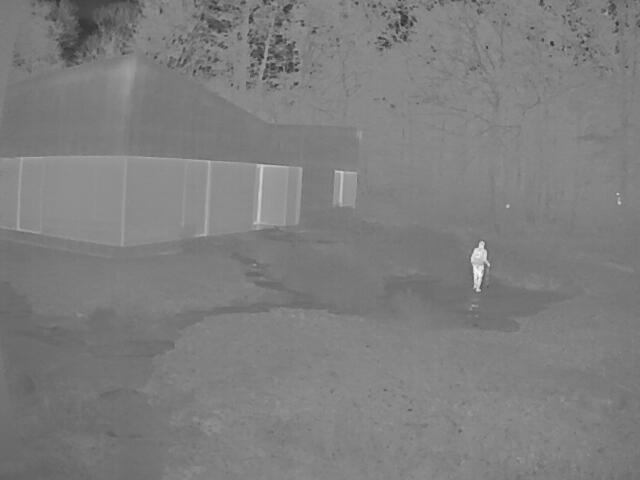person: (468, 240, 489, 293)
